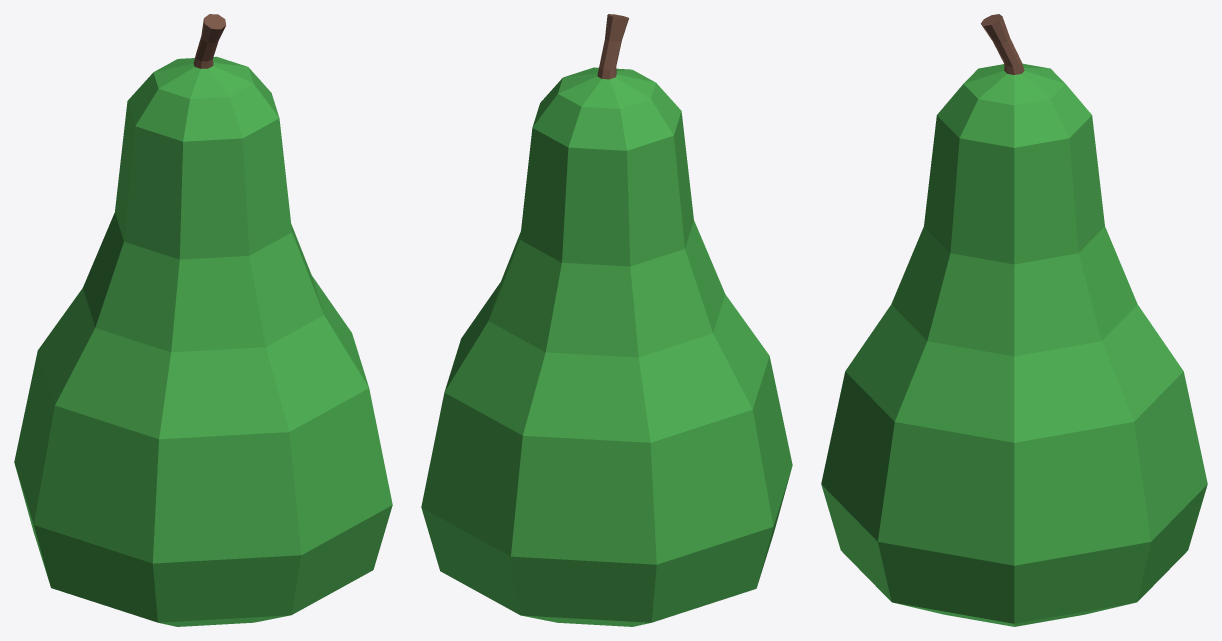
File: pear.fbx
3 renders of one model, left to right at view 1: azimuth 30°, elevation 25°; view 2: azimuth 150°, elevation 25°; view 3: azimuth 270°, elevation 25°, orthographic.
Visible parts, largest first — view 1: pear_Circle.002; view 2: pear_Circle.002; view 3: pear_Circle.002.
Boxes of the visible parts, x1=… form: pear_Circle.002: x1=14, y1=14, x2=392, y2=626; pear_Circle.002: x1=421, y1=14, x2=792, y2=626; pear_Circle.002: x1=821, y1=14, x2=1207, y2=626.
Size of the model in its own units: 169 by 277 by 169.
